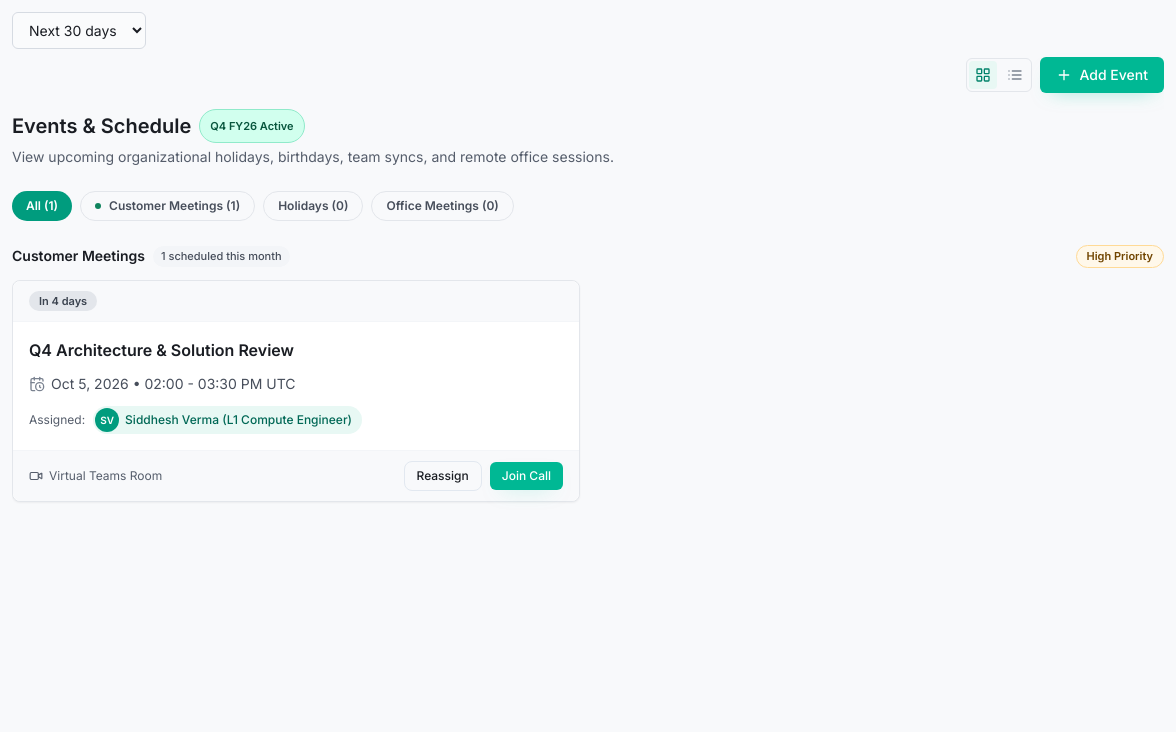
it: Customer Meeting cards › explains the problem instead of opening a tab when no link is set
Click the button "Join Call".
click(526, 476)  # box [490,462,563,490]
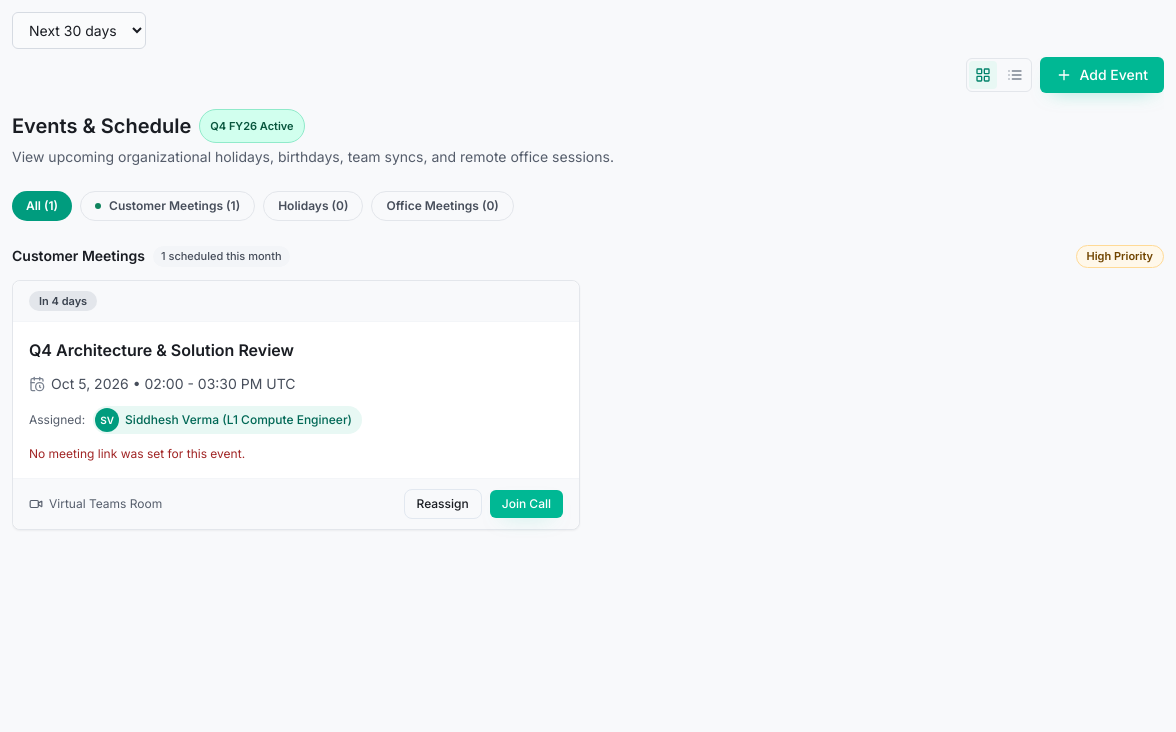
Now the text "No meeting link was set for this event." is shown, box [29,446,245,461]
